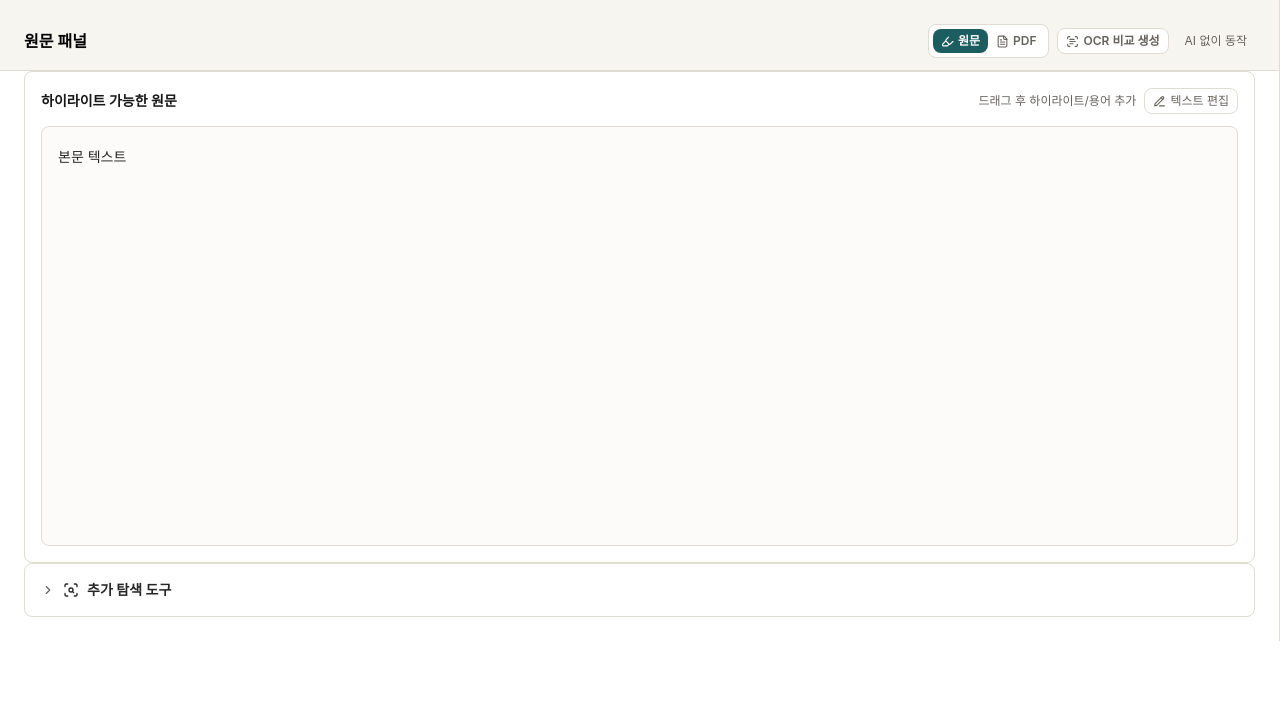
SourcePanel OCR action › keeps PDF area notes in additional exploration instead of highlights
Step 1. Click the button "추가 탐색 도구" → (106, 590), box [41, 580, 171, 600]
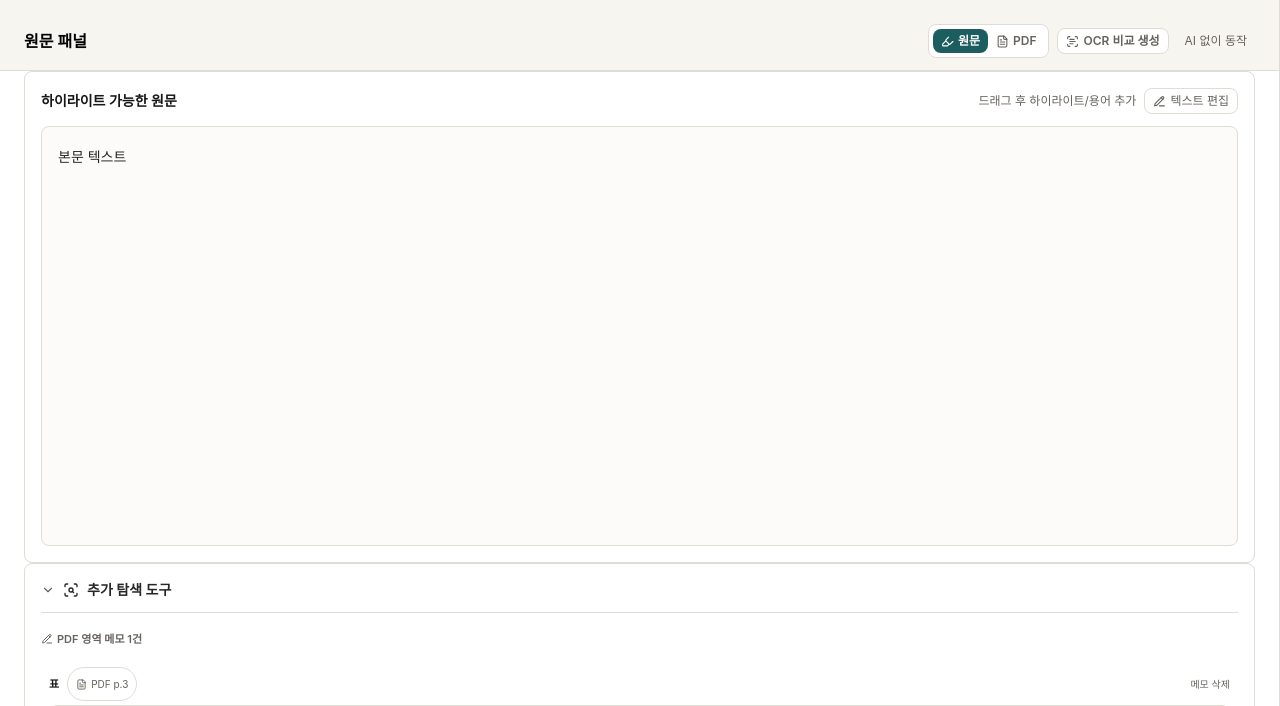
Check: the text "PDF 영역 메모 1건" is shown, box [41, 632, 142, 646]
Check: the button "PDF p.3" is shown, box [67, 667, 137, 701]
Check: the button with aria-label "PDF 영역 메모 삭제" reads "메모 삭제", box [1190, 670, 1230, 698]
